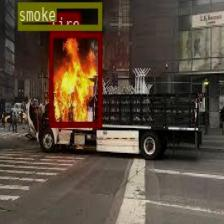fire: (49, 31, 101, 127)
smoke: (18, 1, 101, 30)
